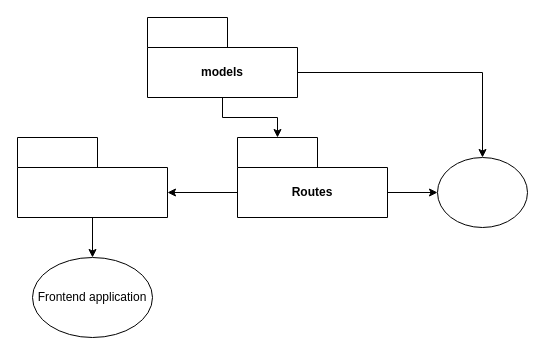
Image size: 545x355. Some labels were removed from this diagram. Here are the shapes that lost their labels. From the top down, the centre of each, then its label:
At (92,177): "Templates".
At (482,192): "app.py (main module)".
